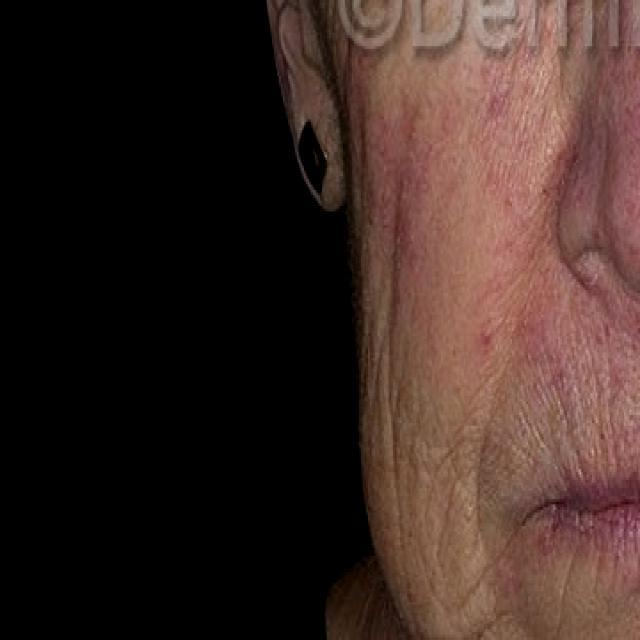Rosacea: (347, 46, 558, 380)
